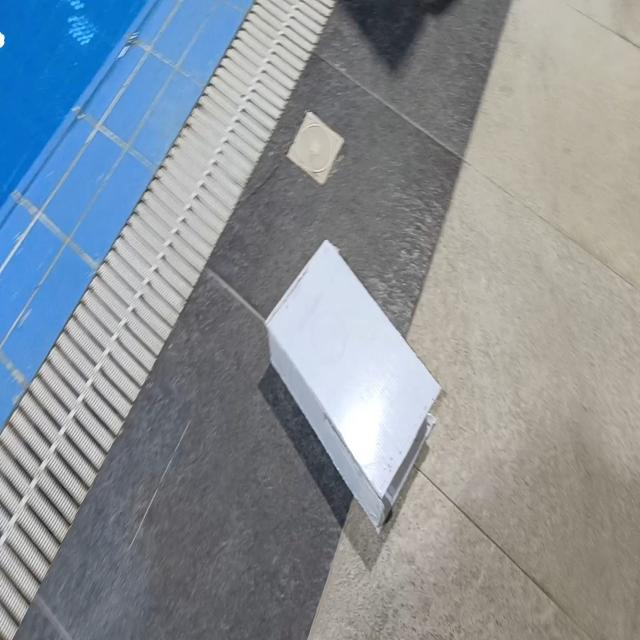Cuboid: (264, 237, 442, 534)
